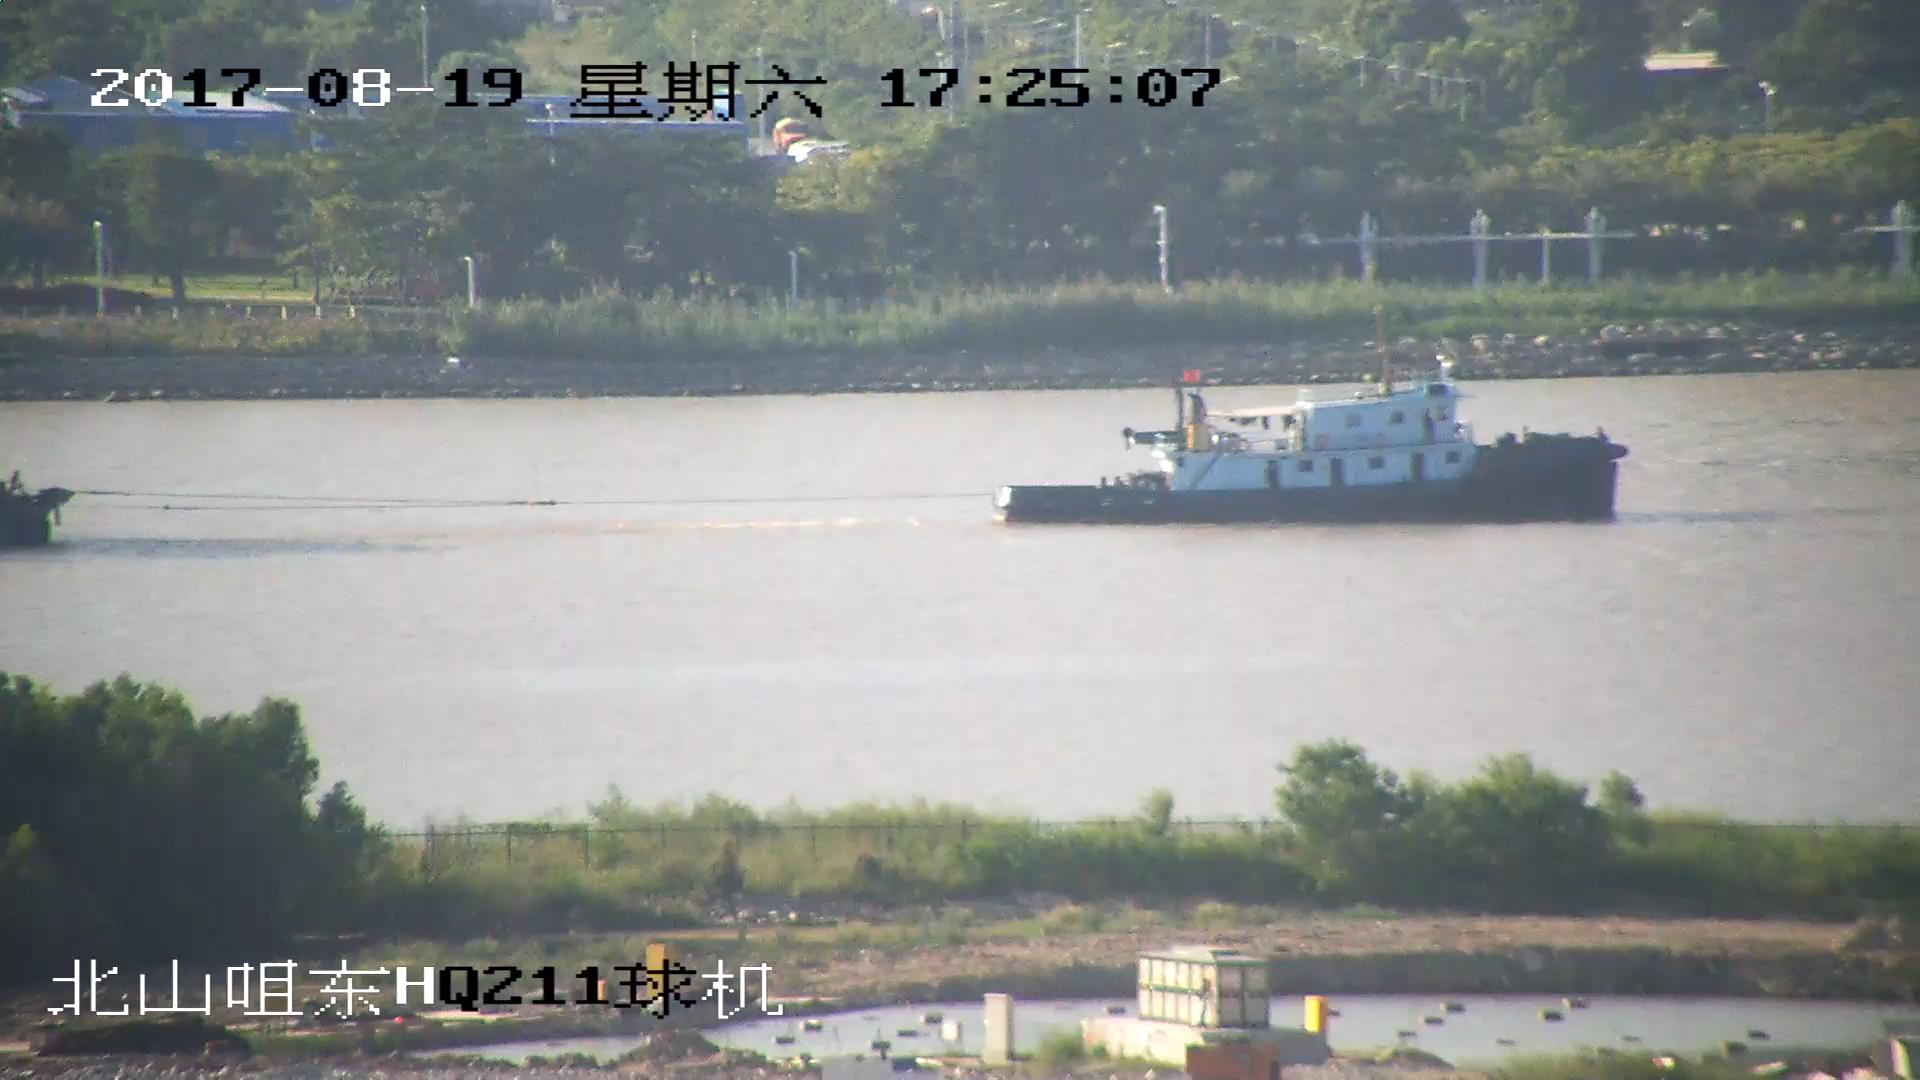fishing boat: (996, 382, 1622, 529)
